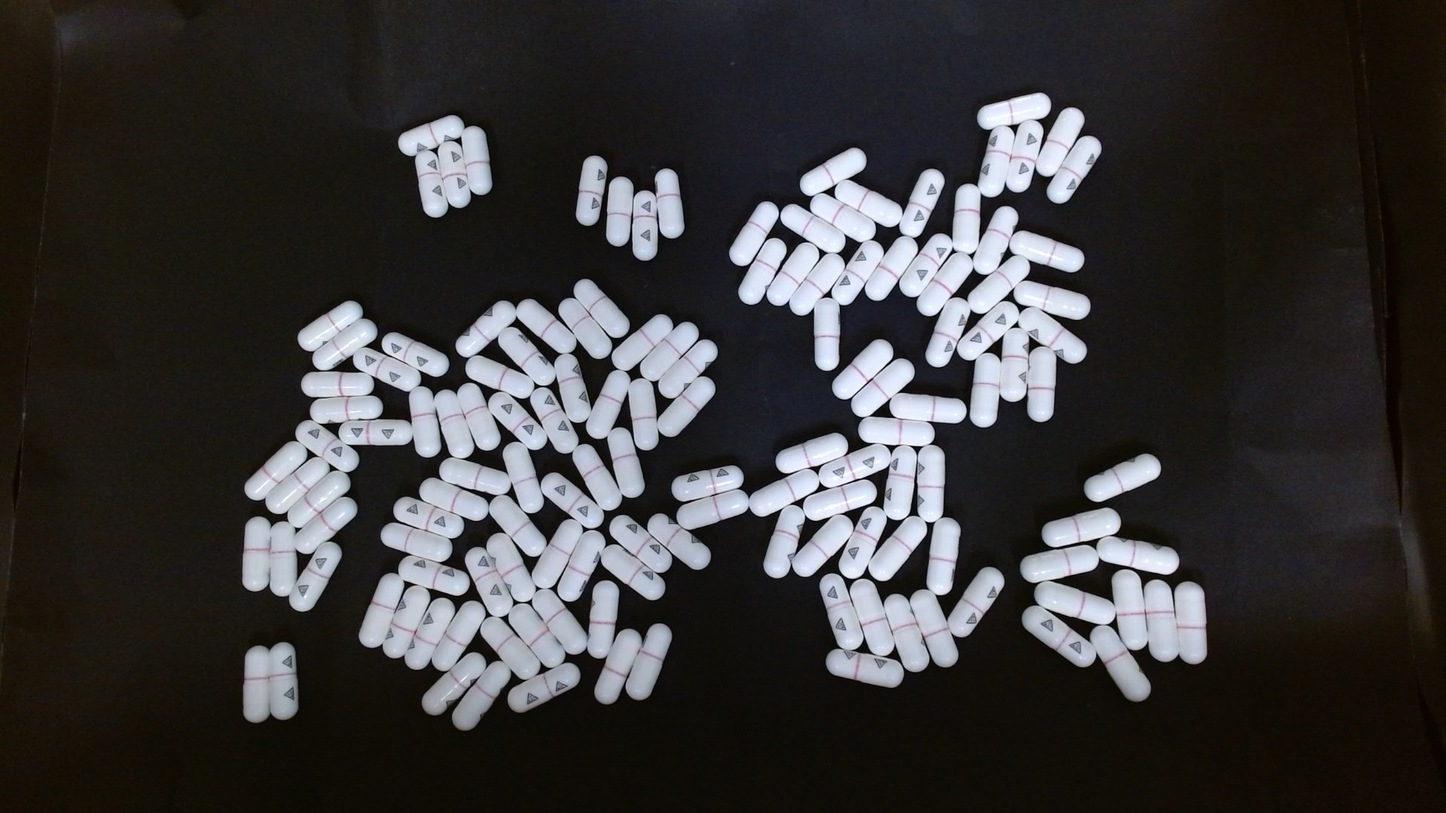Capsule: (1087, 623, 1154, 706), (1022, 605, 1099, 670), (829, 337, 896, 404), (420, 651, 488, 716), (450, 659, 511, 731), (898, 230, 956, 305), (481, 610, 543, 680), (1017, 302, 1088, 363), (262, 455, 333, 516), (606, 513, 675, 575), (792, 513, 854, 582), (868, 513, 928, 584), (637, 320, 703, 384), (242, 439, 309, 502), (1041, 136, 1102, 205), (532, 516, 587, 592), (431, 600, 488, 673), (953, 297, 1017, 362), (847, 358, 915, 419), (553, 527, 608, 602), (947, 566, 1005, 637), (404, 596, 458, 672), (881, 592, 931, 674), (909, 589, 960, 669), (600, 543, 668, 603), (507, 600, 564, 671), (487, 493, 548, 559), (913, 251, 974, 317), (291, 495, 359, 554), (654, 336, 718, 398), (966, 255, 1033, 314), (1083, 452, 1162, 502), (787, 251, 846, 317), (286, 470, 353, 528), (848, 578, 897, 657), (508, 661, 581, 714), (765, 240, 821, 309), (781, 203, 851, 258), (486, 390, 548, 452), (656, 375, 716, 439), (461, 546, 514, 618), (484, 532, 536, 605), (310, 317, 379, 372), (516, 297, 578, 358), (609, 314, 673, 373), (1033, 580, 1115, 626), (806, 190, 877, 243), (1035, 106, 1085, 181), (818, 572, 864, 653), (382, 583, 431, 659), (816, 443, 892, 492), (288, 541, 339, 613), (457, 297, 519, 356), (832, 178, 902, 230), (557, 296, 613, 361), (358, 569, 404, 648), (863, 236, 918, 302), (294, 418, 360, 473), (830, 239, 884, 306), (297, 300, 365, 353), (573, 278, 632, 339), (648, 513, 710, 571), (971, 205, 1022, 275), (532, 586, 585, 653), (625, 623, 671, 700), (748, 467, 820, 516), (381, 331, 453, 380), (738, 236, 788, 306), (1009, 228, 1085, 274), (823, 647, 904, 690), (497, 327, 556, 386), (837, 510, 886, 581), (923, 297, 972, 368), (542, 470, 599, 531), (897, 169, 947, 238), (728, 200, 778, 269), (798, 147, 867, 196), (529, 386, 580, 452), (1039, 507, 1121, 548), (596, 629, 642, 702), (1015, 279, 1091, 323), (802, 478, 878, 522), (352, 347, 423, 394), (584, 369, 632, 438), (417, 477, 490, 522), (1020, 543, 1102, 583), (573, 444, 621, 512), (438, 455, 512, 499), (502, 441, 546, 515), (1096, 534, 1177, 574), (1111, 568, 1150, 651), (764, 504, 807, 579), (379, 520, 453, 563), (977, 125, 1020, 199), (1142, 578, 1179, 664), (775, 432, 848, 475), (393, 495, 464, 539), (466, 354, 532, 400), (1004, 119, 1045, 193), (395, 553, 467, 595), (924, 515, 961, 596), (459, 384, 500, 457), (1173, 580, 1208, 665), (974, 92, 1052, 130), (434, 387, 474, 460), (678, 487, 749, 528), (554, 352, 593, 425), (882, 445, 920, 519), (672, 464, 745, 502), (861, 416, 945, 449), (397, 115, 462, 157), (886, 392, 967, 425), (606, 426, 643, 498), (587, 581, 620, 661), (573, 154, 609, 226), (969, 352, 1001, 430), (1000, 326, 1031, 405), (915, 443, 946, 522), (1026, 345, 1057, 424), (436, 136, 470, 206), (242, 516, 272, 594), (268, 644, 298, 720), (414, 147, 447, 216), (409, 385, 441, 456), (654, 168, 685, 241), (460, 125, 492, 195), (627, 381, 658, 453), (300, 370, 374, 400), (267, 522, 297, 595), (950, 184, 981, 254), (242, 646, 270, 723), (605, 176, 635, 247), (336, 418, 407, 447), (310, 394, 383, 422), (813, 297, 840, 372), (631, 188, 657, 263)
